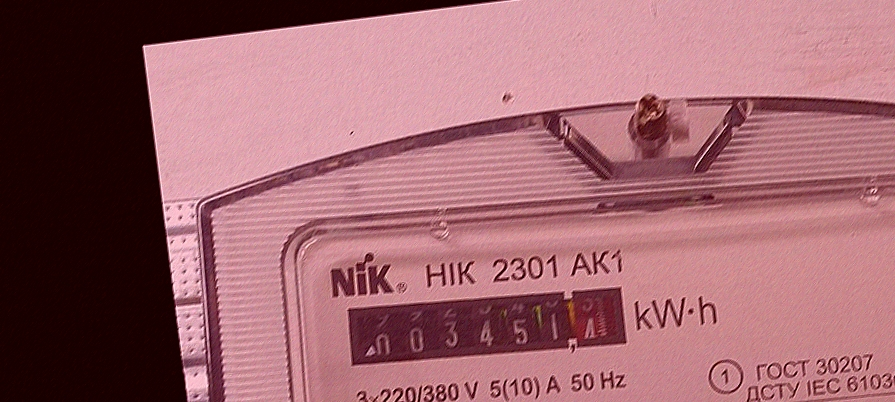0: (369, 328, 393, 357), (404, 324, 427, 354)
1: (543, 309, 563, 342)
3: (439, 317, 461, 350)
4: (473, 316, 497, 350), (576, 313, 600, 344)
5: (509, 314, 529, 347)
screen: (337, 269, 634, 386)
